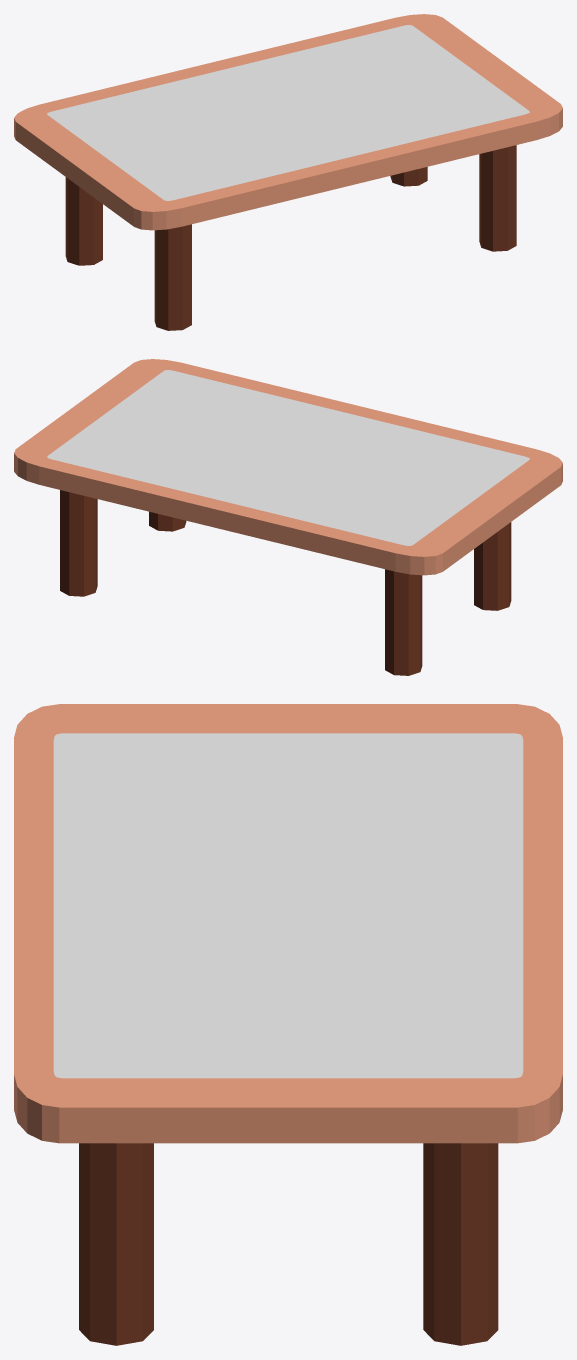
File: table_asset.dae
3 renders of one model, top to bottom at view 1: azimuth 30°, elevation 25°; view 2: azimuth 150°, elevation 25°; view 3: azimuth 270°, elevation 25°, orthographic. The views are drawn at different scales.
Visible parts, largest first — view 1: table_Board, table_legs; view 2: table_Board, table_legs; view 3: table_Board, table_legs.
Boxes of the visible parts, bbox=[...] form: table_Board: bbox=[14, 14, 562, 230]; table_legs: bbox=[65, 145, 516, 330]; table_Board: bbox=[14, 359, 562, 575]; table_legs: bbox=[60, 490, 511, 675]; table_Board: bbox=[14, 704, 562, 1143]; table_legs: bbox=[79, 1143, 498, 1345].
Bounding box in the file's own units: 1.19 × 0.6855 × 0.3696.
